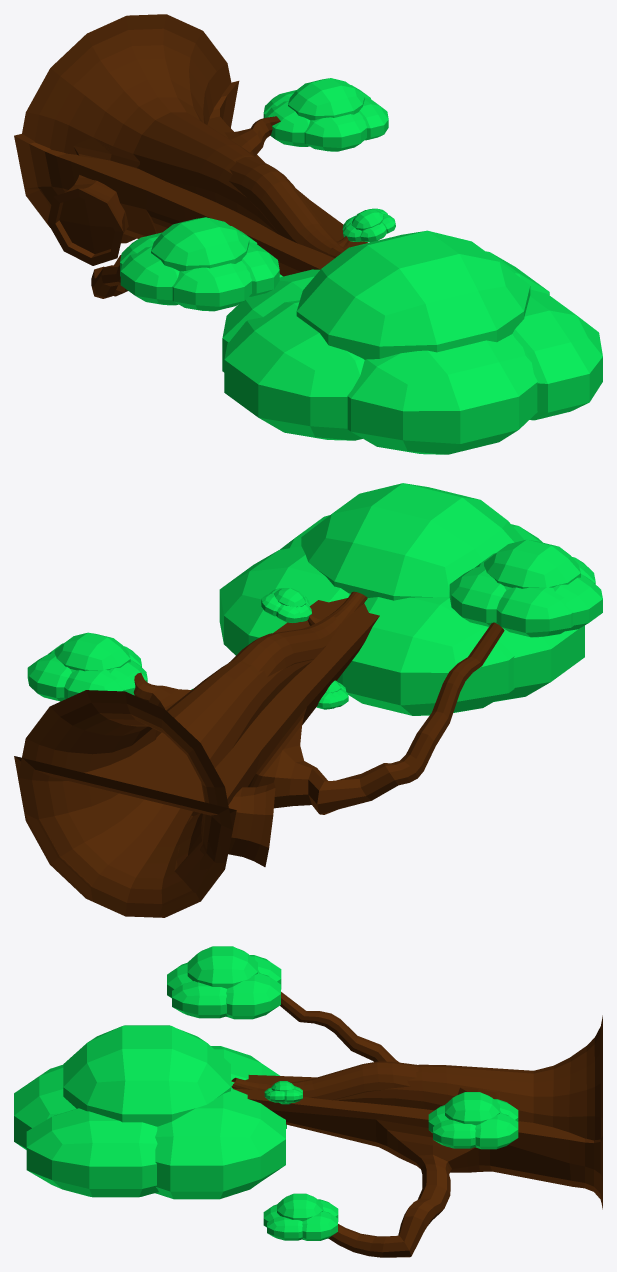
File: ExternalPlatforms.fbx
3 views of the same model, one above another, from view 1: azimuth 30°, elevation 25°; view 2: azimuth 150°, elevation 25°; view 3: azimuth 270°, elevation 25° (orthographic). The views are drawn at different scales.
Parts seen in each view (by area): view 1: ExternalWoodPlatform_CutBranch, ExternalWoodPlatform, LeavesPlatformCutBranch.006, ExternalWoodPlatform_HalfCut, LeavesPlatformCutBranch.004, LeavesPlatformCutBranch.003, LeavesPlatform.004, LeavesPlatformCutBranch.005, LeavesPlatform.003, LeavesPlatformHalfCut.006, LeavesPlatformHalfCut.004, LeavesPlatform.006 (+11 smaller); view 2: ExternalWoodPlatform, ExternalWoodPlatform_HalfCut, ExternalWoodPlatform_CutBranch, LeavesPlatformHalfCut.013, LeavesPlatformHalfCut.009, LeavesPlatformHalfCut.008, LeavesPlatformCutBranch.006, LeavesPlatformHalfCut.006, LeavesPlatformHalfCut.002, LeavesPlatformCutBranch.003, LeavesPlatformHalfCut.001, LeavesPlatformCutBranch.013 (+7 smaller); view 3: ExternalWoodPlatform_HalfCut, ExternalWoodPlatform, LeavesPlatformHalfCut.008, LeavesPlatformHalfCut.013, LeavesPlatformCutBranch.006, LeavesPlatformCutBranch.005, LeavesPlatformHalfCut.012, ExternalWoodPlatform_CutBranch, LeavesPlatformCutBranch.001, LeavesPlatformHalfCut.006, LeavesPlatformCutBranch.004, LeavesPlatform.005 (+13 smaller).
Boxes of the visible parts, x1,y1,x2,y2 form: ExternalWoodPlatform_CutBranch: [26, 16, 349, 265]; ExternalWoodPlatform: [18, 14, 345, 254]; LeavesPlatformCutBranch.006: [296, 230, 530, 359]; ExternalWoodPlatform_HalfCut: [14, 81, 367, 298]; LeavesPlatformCutBranch.004: [347, 334, 537, 443]; LeavesPlatformCutBranch.003: [224, 302, 364, 427]; LeavesPlatform.004: [347, 382, 537, 454]; LeavesPlatformCutBranch.005: [512, 289, 602, 383]; LeavesPlatform.003: [224, 360, 362, 440]; LeavesPlatformHalfCut.006: [151, 217, 249, 271]; LeavesPlatformHalfCut.004: [172, 261, 252, 311]; LeavesPlatform.006: [296, 286, 530, 359]; ExternalWoodPlatform: [18, 591, 356, 915]; ExternalWoodPlatform_HalfCut: [14, 598, 504, 917]; ExternalWoodPlatform_CutBranch: [125, 592, 367, 917]; LeavesPlatformHalfCut.013: [301, 483, 482, 600]; LeavesPlatformHalfCut.009: [337, 597, 508, 705]; LeavesPlatformHalfCut.008: [219, 546, 349, 655]; LeavesPlatformCutBranch.006: [332, 483, 523, 560]; LeavesPlatformHalfCut.006: [484, 539, 580, 588]; LeavesPlatformHalfCut.002: [496, 587, 573, 637]; LeavesPlatformCutBranch.003: [499, 625, 584, 684]; LeavesPlatformHalfCut.001: [449, 566, 506, 626]; LeavesPlatformCutBranch.013: [54, 632, 130, 671]; ExternalWoodPlatform_HalfCut: [233, 992, 602, 1257]; ExternalWoodPlatform: [231, 1022, 602, 1209]; LeavesPlatformHalfCut.008: [155, 1088, 285, 1191]; LeavesPlatformHalfCut.013: [63, 1026, 230, 1126]; LeavesPlatformCutBranch.006: [63, 1025, 171, 1121]; LeavesPlatformCutBranch.005: [26, 1108, 155, 1188]; LeavesPlatformHalfCut.012: [59, 1119, 157, 1190]; ExternalWoodPlatform_CutBranch: [231, 1016, 602, 1100]; LeavesPlatformCutBranch.001: [155, 1094, 223, 1190]; LeavesPlatformHalfCut.006: [187, 946, 257, 988]; LeavesPlatformCutBranch.004: [14, 1065, 76, 1127]; LeavesPlatform.005: [26, 1148, 158, 1197].
Size of the model in its own units: 1829 by 1067 by 2951.
